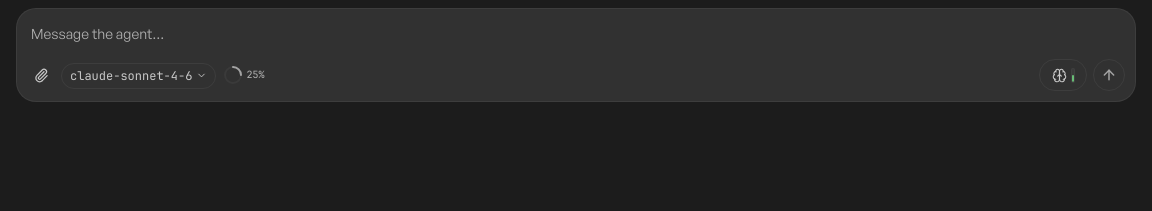
Composer › effort chip › marks the level the transcript reports as the selected one
Click the button with test id "effort-chip": (1063, 75) [1039,59,1087,91]
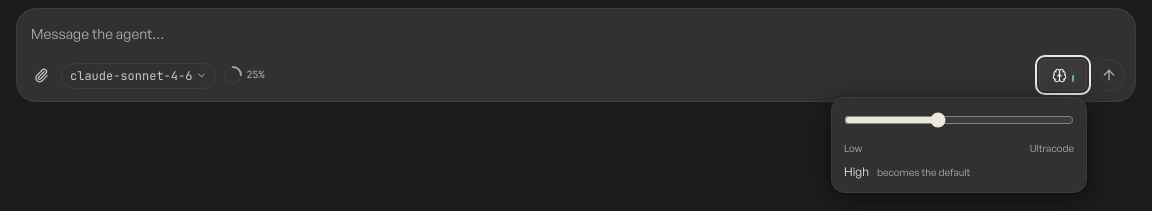
Expected: the text with test id "effort-slider-value" reads "High", [844,164,869,179]
Expected: the slider with test id "effort-slider" holds "2", [844,112,1074,128]
